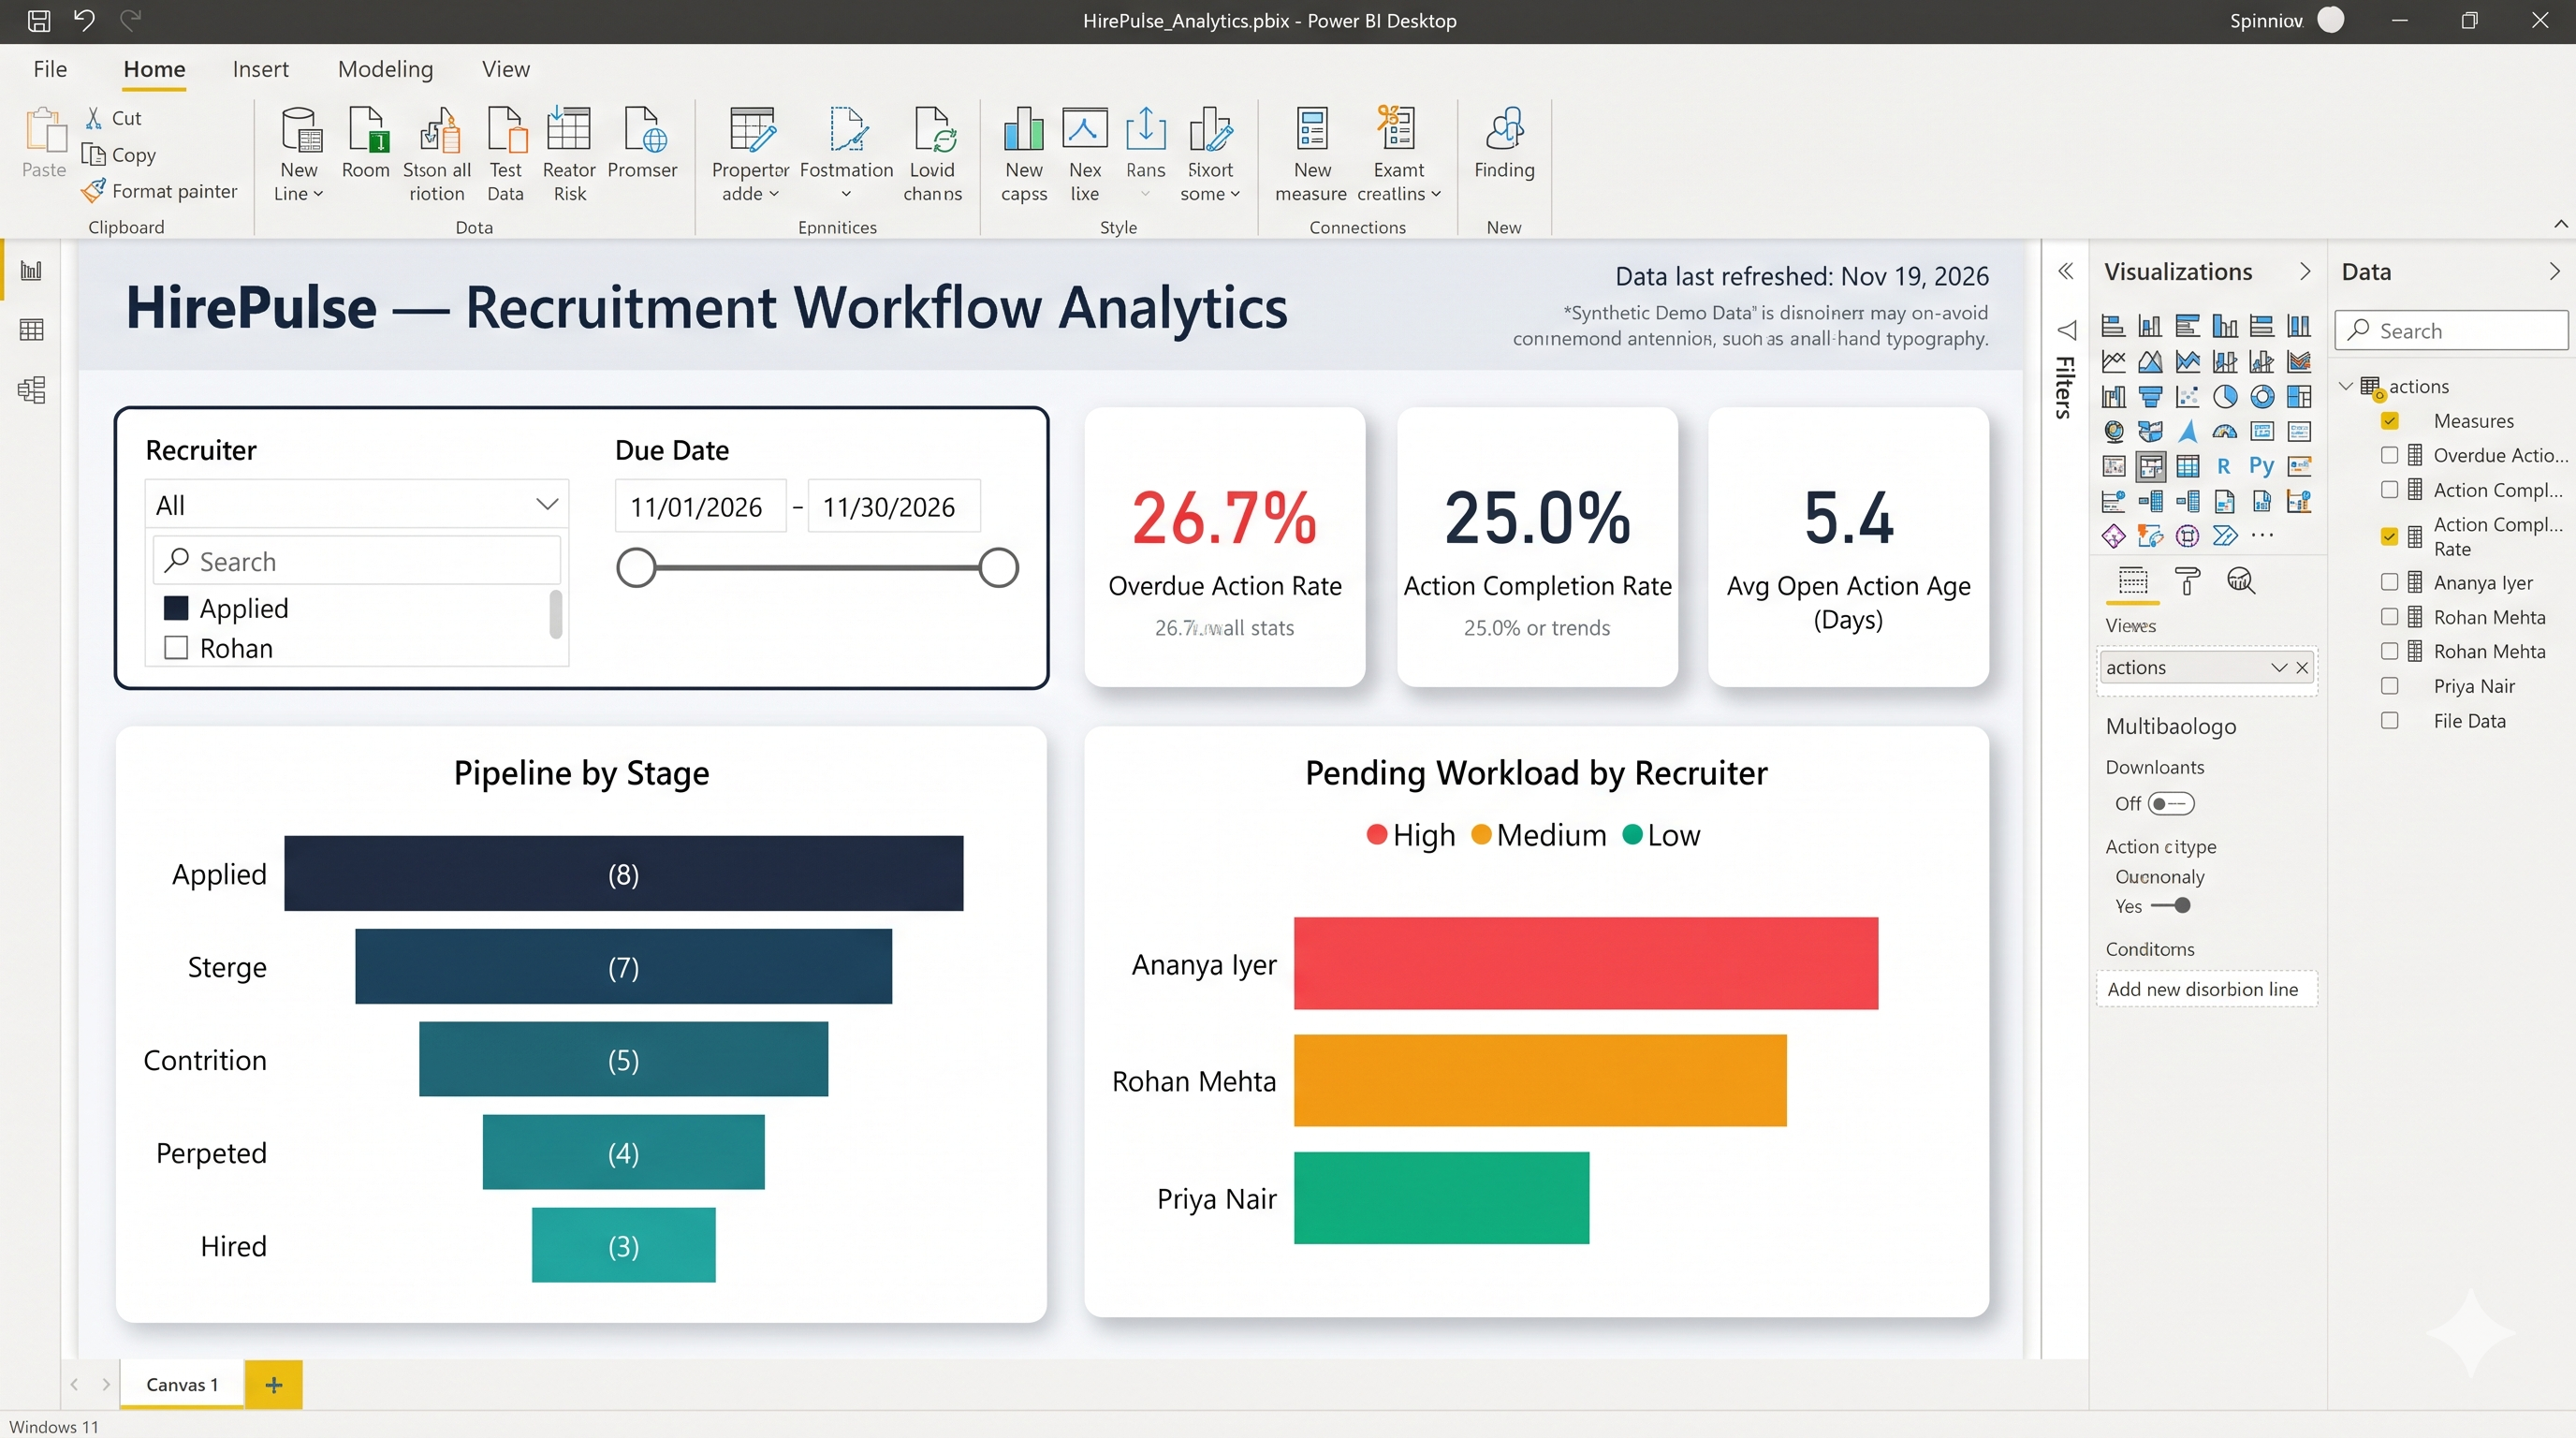

What the dashboard file says about the page in this screenshot:
{"tool":"powerbi","page":{"name":"Page 1","canvas":[1920,1080],"ordinal":0},"visuals":[{"type":"slicer","fields":{"Values":["actions.recruiter","actions.due_at"]},"box":[18,286,280,280],"z":1000},{"type":"slicer","fields":{"Values":["actions.due_at"]},"box":[18,62,796,150],"z":2000},{"type":"cardVisual","fields":{"Data":["Sum(actions.action_id)"],"Rows":["actions.action_type"]},"box":[1018,458,796,622],"z":2001},{"type":"tableEx","fields":{"Values":["applications.application_id","applications.stage"]},"box":[18,674,796,406],"z":2002},{"type":"clusteredBarChart","fields":{"Category":["actions.recruiter"],"Y":["actions.Pending Workload"]},"box":[1018,62,796,150],"z":2003}]}

Visuals, with their boxes on the page's 1920x1080 design canvas (x1, y1, x2, y2). These are canvas units, not pixel positions in the 2576x1438 screenshot, which may show the page scaled, cropped or inside an application window:
slicer - actions.recruiter x actions.due_at: [left=18, top=286, right=298, bottom=566]
slicer - actions.due_at: [left=18, top=62, right=814, bottom=212]
cardVisual - Sum(actions.action_id) x actions.action_type: [left=1018, top=458, right=1814, bottom=1080]
tableEx - applications.application_id x applications.stage: [left=18, top=674, right=814, bottom=1080]
clusteredBarChart - actions.recruiter x actions.Pending Workload: [left=1018, top=62, right=1814, bottom=212]
